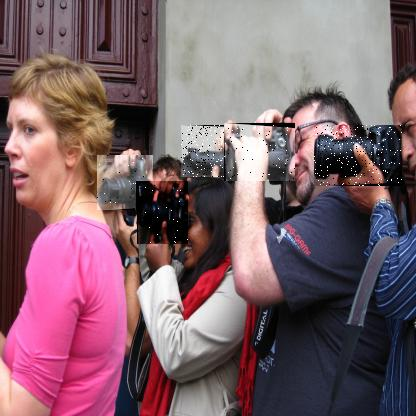Camera: (315, 126, 404, 188), (225, 124, 297, 183), (138, 182, 190, 246), (99, 156, 157, 212), (182, 126, 243, 179)
